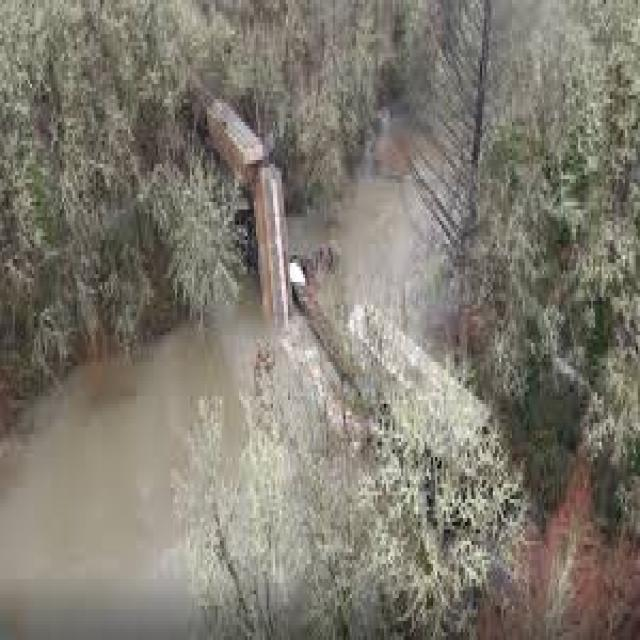bridge collapse: (172, 78, 482, 486)
